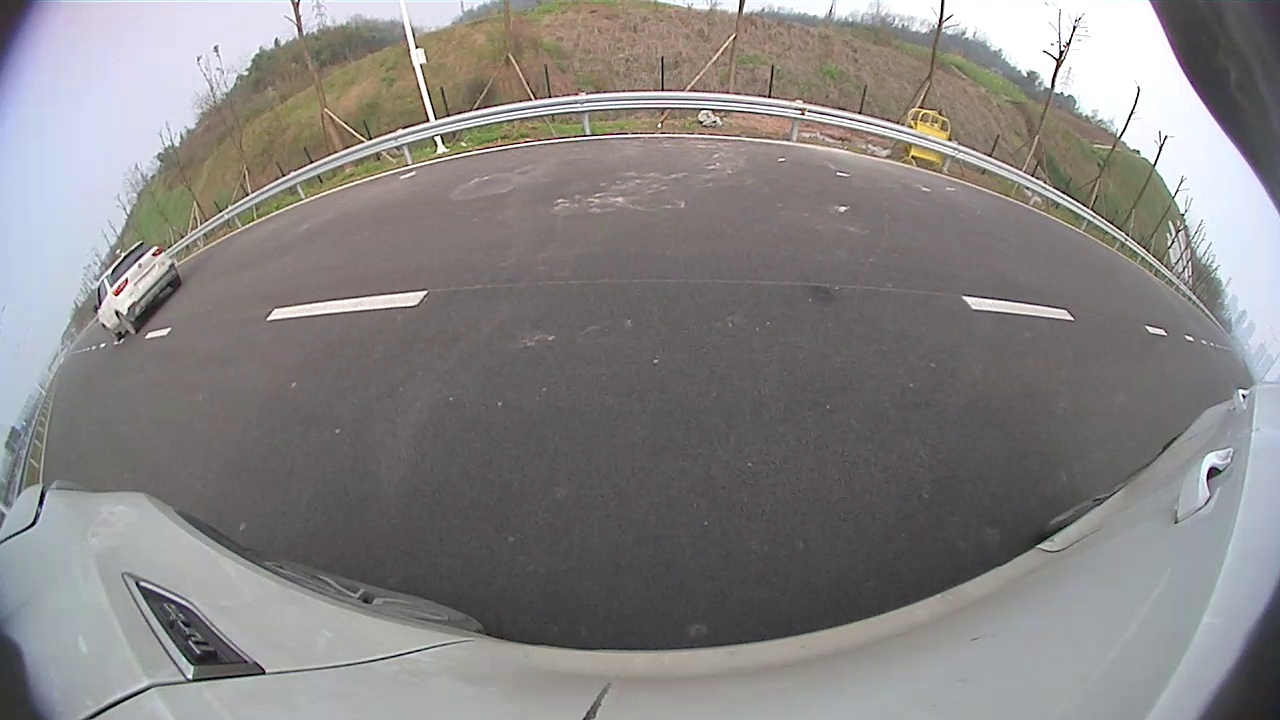car: (94, 240, 183, 342)
rear: (115, 311, 136, 337)
